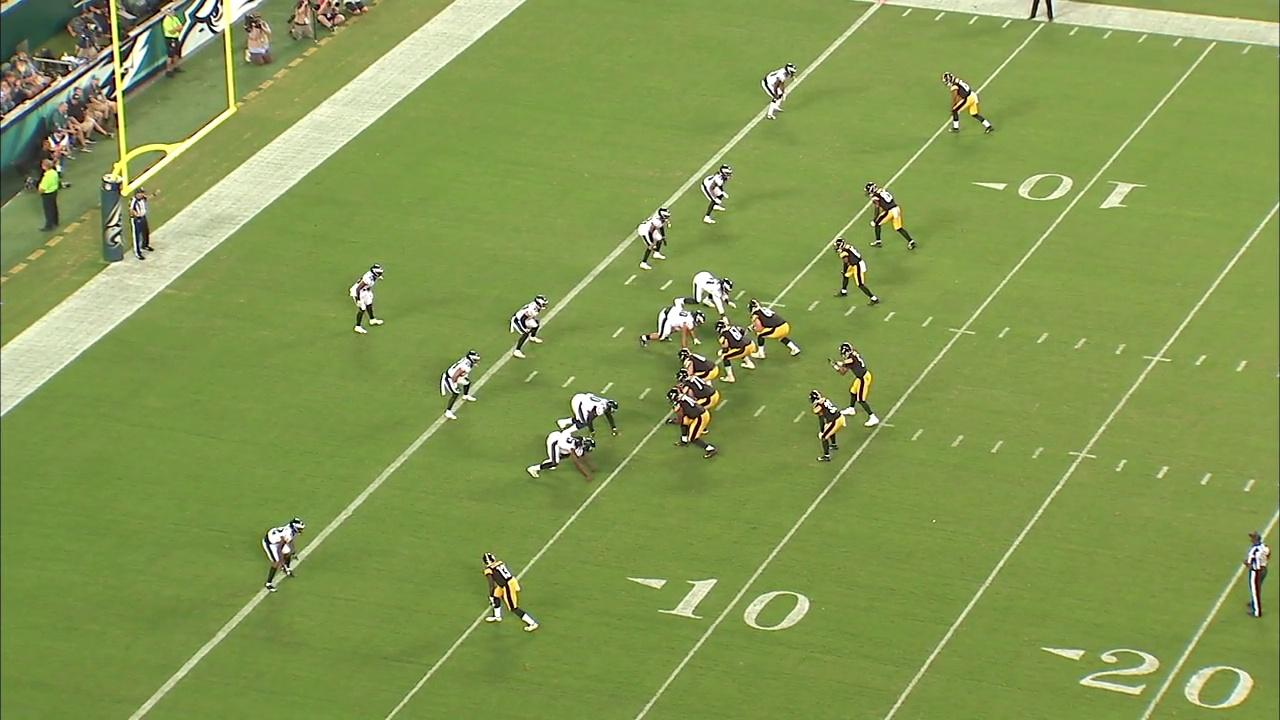player: (474, 547, 538, 634), (861, 173, 918, 254), (258, 514, 315, 593), (542, 390, 623, 439), (832, 342, 877, 428), (943, 66, 994, 138), (833, 233, 879, 312), (525, 429, 597, 476), (441, 348, 485, 422), (693, 156, 739, 226), (667, 392, 715, 459), (674, 272, 737, 323), (347, 257, 387, 336), (757, 57, 804, 123), (750, 299, 797, 362), (713, 316, 757, 379), (635, 206, 676, 272), (642, 308, 708, 347), (511, 293, 548, 361), (813, 390, 843, 465), (675, 370, 719, 414), (679, 349, 718, 387)
ref: (125, 181, 169, 261), (1238, 526, 1271, 617)
